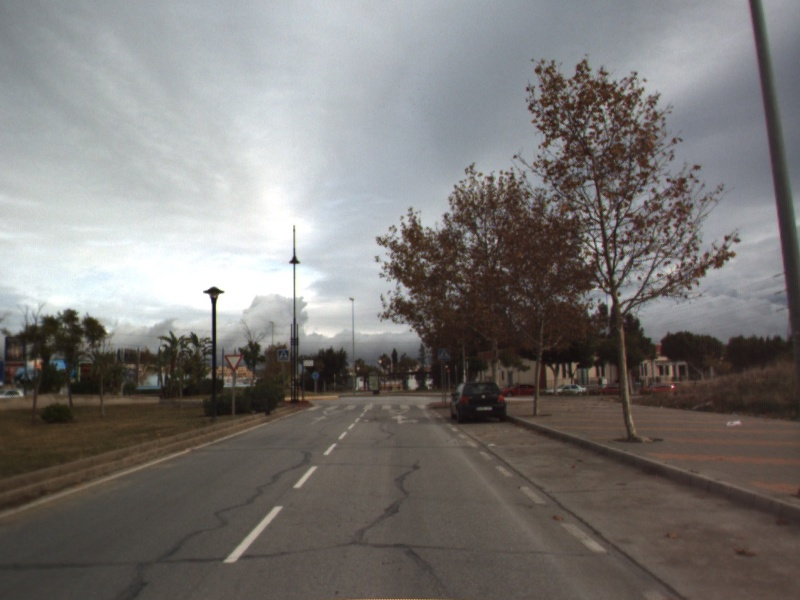STRAIGHT_RIGHT: (390, 413, 421, 426)
